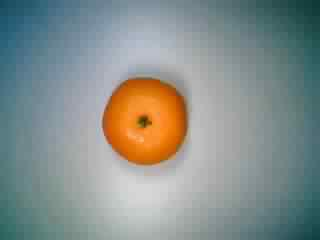orange: (99, 68, 194, 170)
